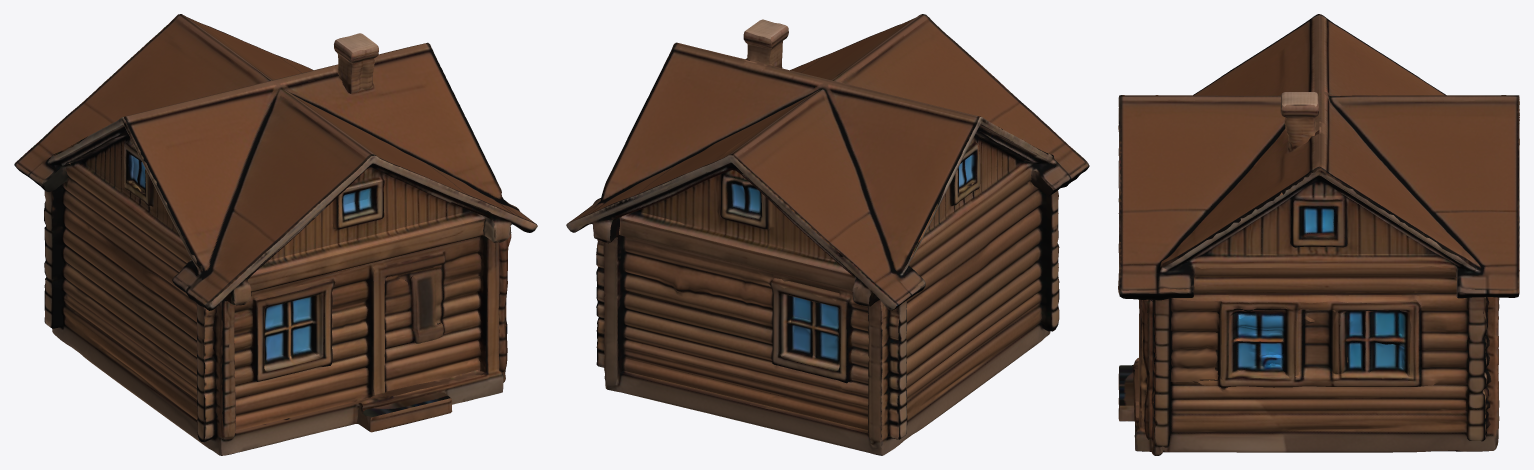
The model's file is house-woodland-cabin.glb.
3 renders of one model, left to right at view 1: azimuth 30°, elevation 25°; view 2: azimuth 150°, elevation 25°; view 3: azimuth 270°, elevation 25°, orthographic. The views are drawn at different scales.
Visible parts, largest first — view 1: tmpn9ajgzkw.ply; view 2: tmpn9ajgzkw.ply; view 3: tmpn9ajgzkw.ply.
Boxes of the visible parts, x1,y1,x2,y2 form: tmpn9ajgzkw.ply: (14, 14, 537, 455); tmpn9ajgzkw.ply: (566, 14, 1089, 455); tmpn9ajgzkw.ply: (1118, 14, 1519, 455).
Size of the model in its own units: 1.94 by 1.72 by 1.96.
Materials: 1 (1 with a texture image).
